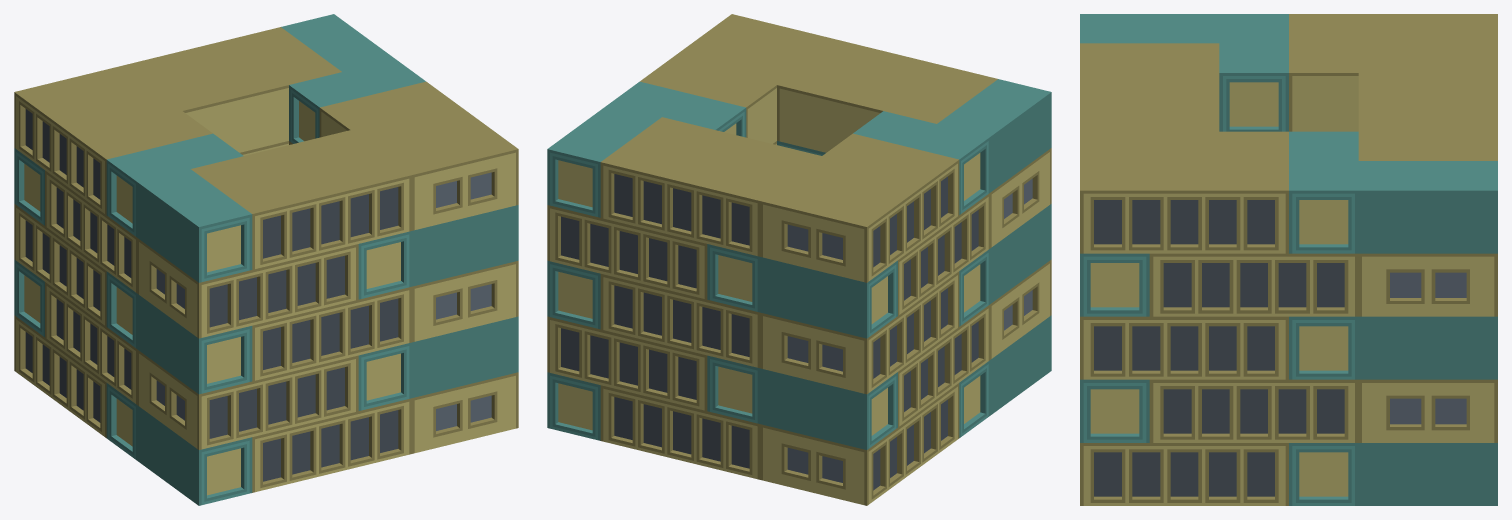
File: Buildings_01-10.obj
The picture shows the model from 3 angles, left to right: view 1: azimuth 30°, elevation 25°; view 2: azimuth 150°, elevation 25°; view 3: azimuth 270°, elevation 25°; orthographic projection. The views are drawn at different scales.
Size of the model in its own units: 12 by 10 by 12.
Materials: 1 (1 with a texture image).
